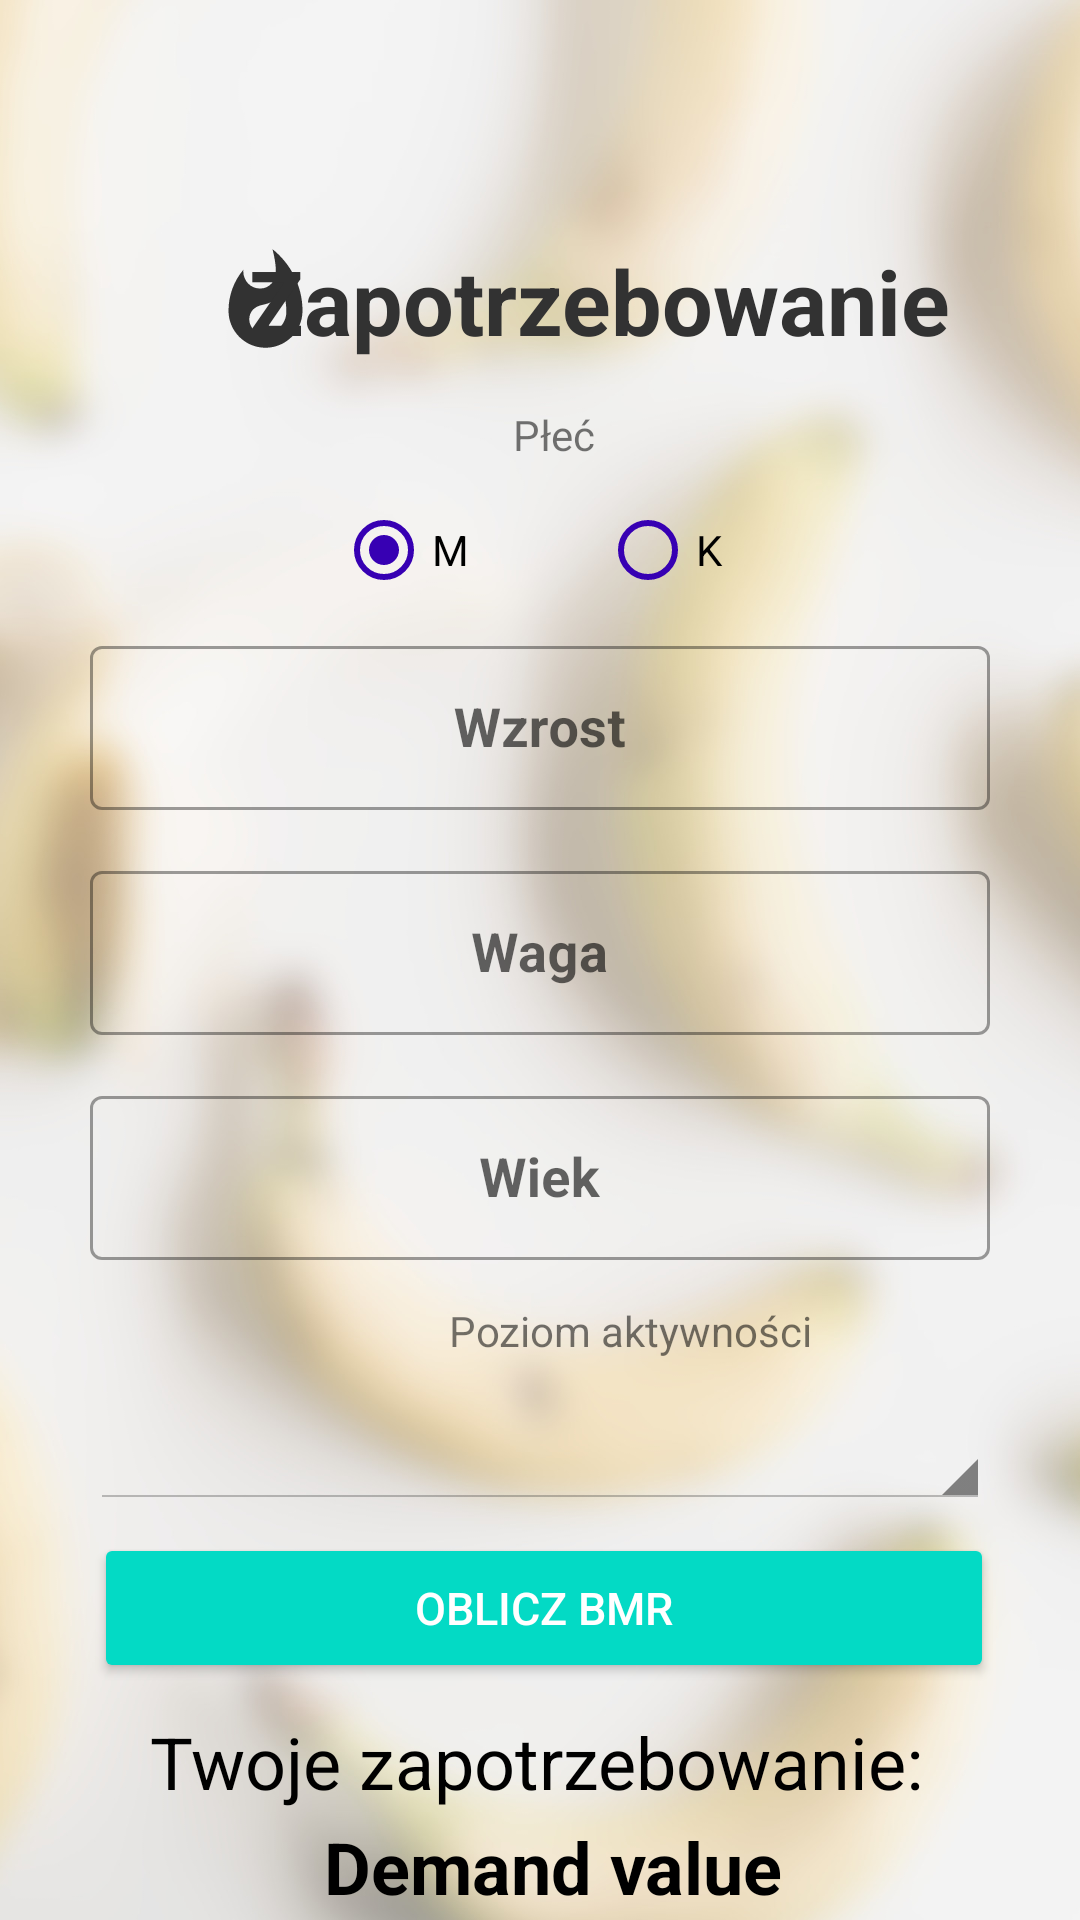

Point at icon controls on the screen. Image size 1080 × 1920, points as [x,y].
whatshot: [265,298]
